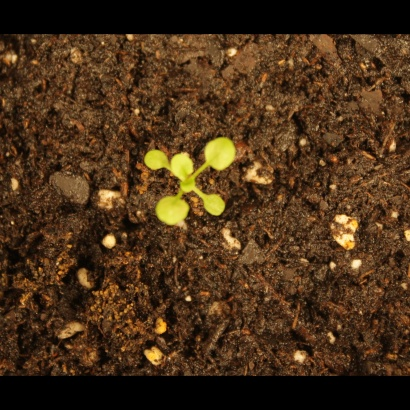leaf: (200, 133, 240, 175), (152, 193, 192, 229), (141, 144, 172, 175), (200, 187, 228, 220), (169, 150, 196, 179), (177, 175, 200, 198)
